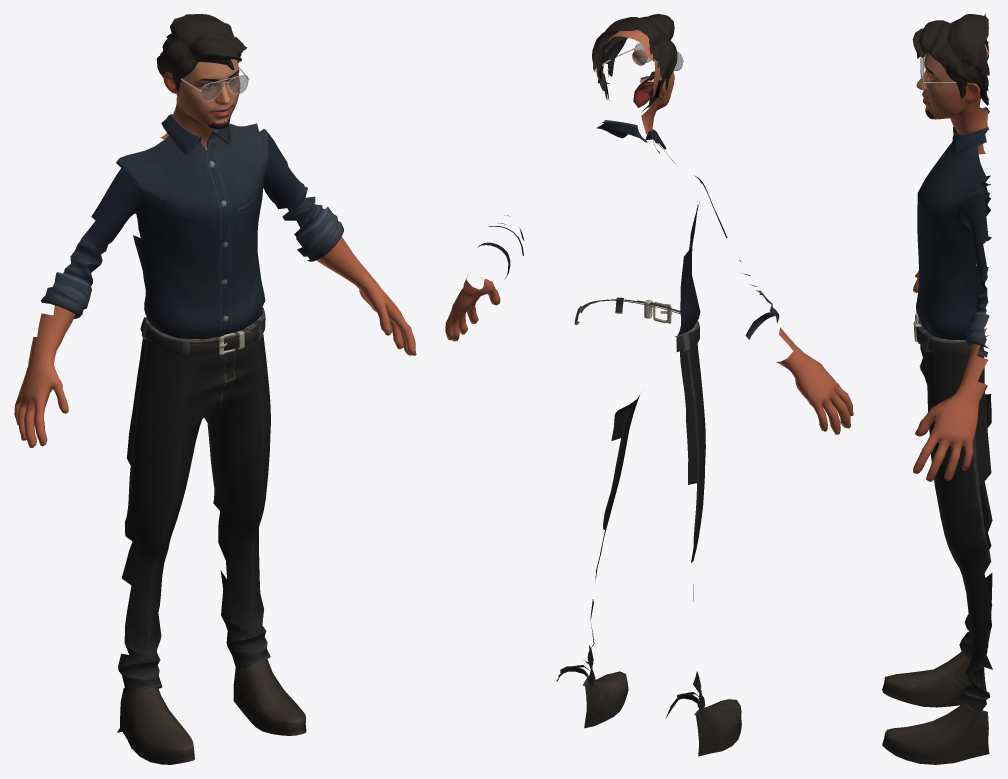
File: luisplana12d.glb
3 views of the same model, side by side, from view 1: azimuth 30°, elevation 25°; view 2: azimuth 150°, elevation 25°; view 3: azimuth 270°, elevation 25° (orthographic).
Parts seen in each view (by area): view 1: Wolf3D_Head; view 2: Wolf3D_Head; view 3: Wolf3D_Head.
Part boxes in pixels (x1,y1,x2,y2): Wolf3D_Head: (14,14,416,764); Wolf3D_Head: (445,14,853,756); Wolf3D_Head: (882,14,992,764).
Bounding box in the file's own units: 1.06 × 1.86 × 0.2667.
Materials: 9 (9 with a texture image).
